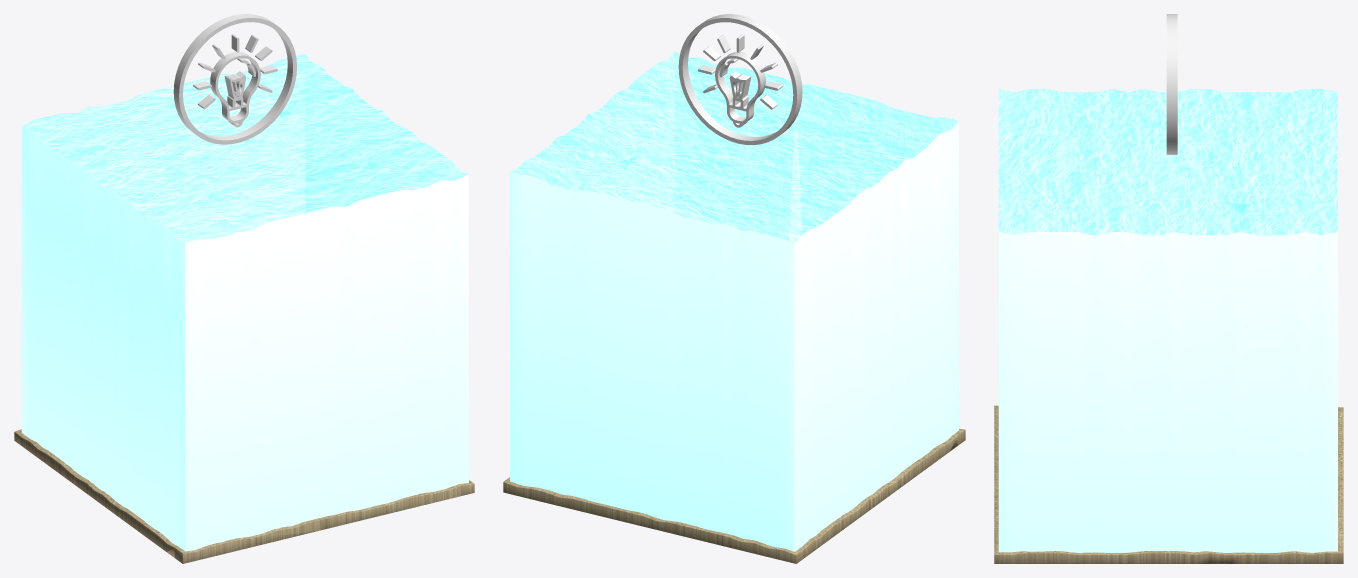
Rendered from water-lower-bulb-trans2.glb.
3 views of the same model, side by side, from view 1: azimuth 30°, elevation 25°; view 2: azimuth 150°, elevation 25°; view 3: azimuth 270°, elevation 25° (orthographic). The views are drawn at different scales.
Visible parts, largest first — view 1: Plane.002_0, Plane.002_1, Curve.012, Sand; view 2: Plane.002_0, Plane.002_1, Curve.012, Sand; view 3: Plane.002_0, Plane.002_1, Sand, Curve.012.
Boxes of the visible parts, x1=… form: Plane.002_0: x1=21, y1=54, x2=468, y2=551; Plane.002_1: x1=22, y1=54, x2=467, y2=242; Curve.012: x1=173, y1=14, x2=296, y2=144; Sand: x1=14, y1=429, x2=474, y2=563; Plane.002_0: x1=510, y1=51, x2=958, y2=551; Plane.002_1: x1=510, y1=51, x2=958, y2=243; Curve.012: x1=678, y1=14, x2=802, y2=145; Sand: x1=503, y1=429, x2=965, y2=563; Plane.002_0: x1=998, y1=89, x2=1337, y2=552; Plane.002_1: x1=998, y1=89, x2=1337, y2=235; Sand: x1=994, y1=405, x2=1343, y2=563; Curve.012: x1=1166, y1=14, x2=1177, y2=154.
Size of the model in its own units: 107 by 158 by 107.
4 materials, 2 textured.
